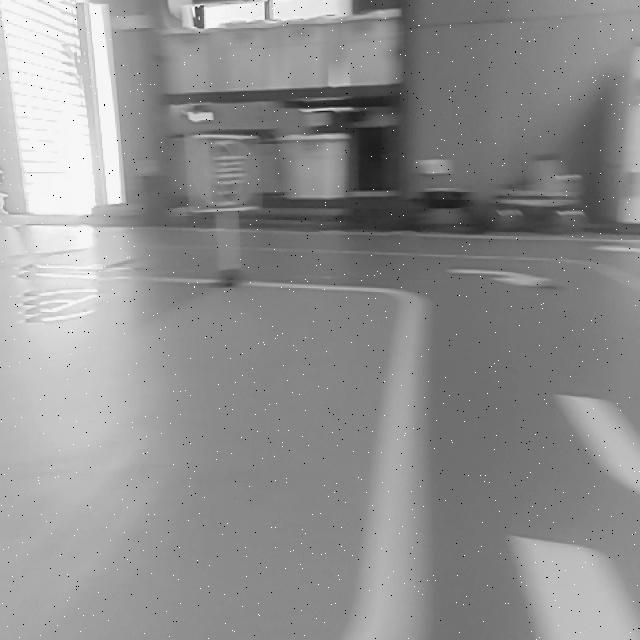left_lane: (386, 306, 430, 633)
